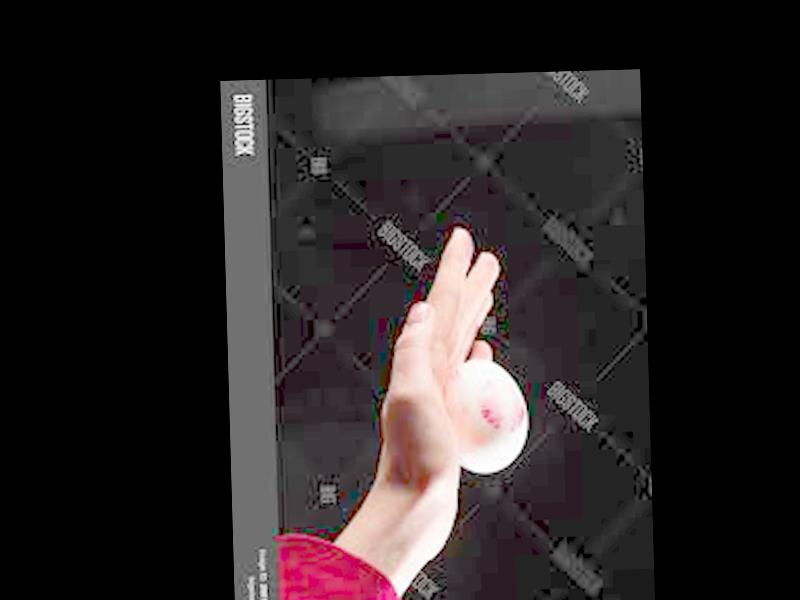Eggs: (450, 361, 529, 475)
